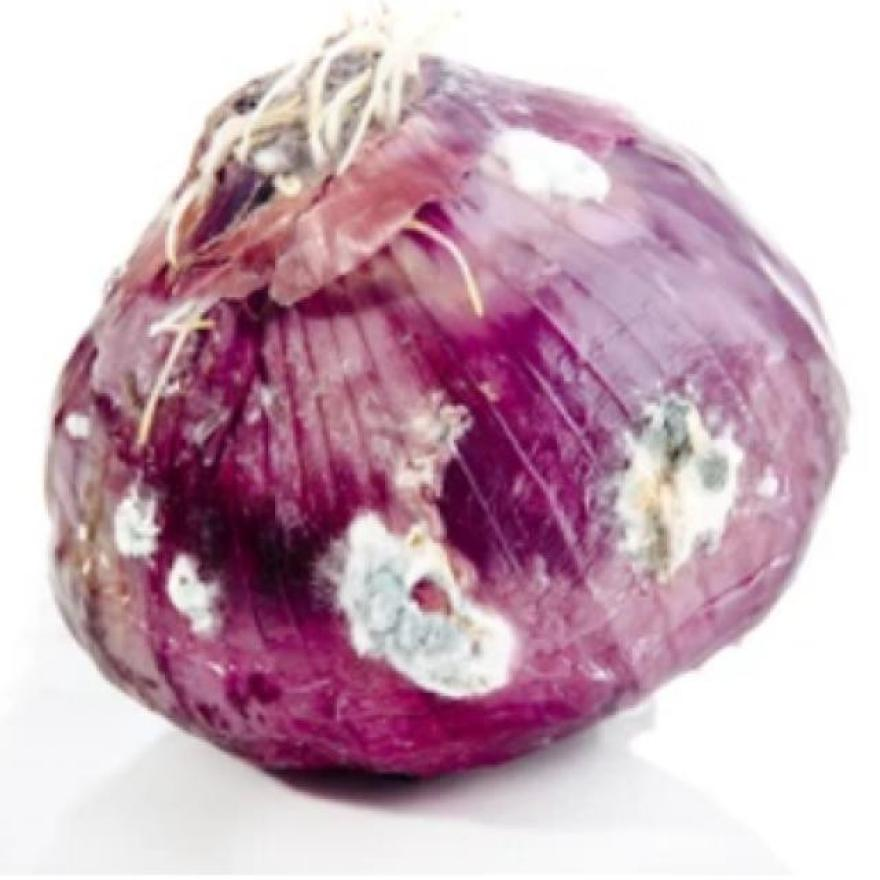Rotten: (364, 490, 722, 684), (582, 363, 752, 580)
